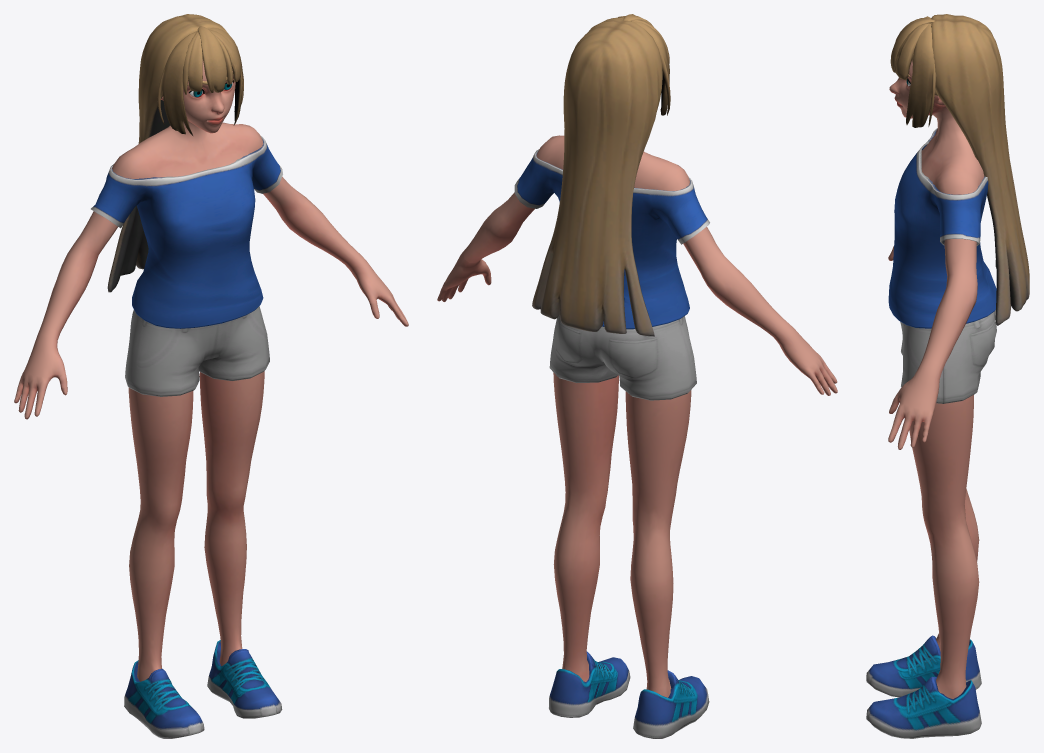
File: Calimero_Mesh.obj
The picture shows the model from 3 angles, left to right: view 1: azimuth 30°, elevation 25°; view 2: azimuth 150°, elevation 25°; view 3: azimuth 270°, elevation 25°; orthographic projection.
Visible parts, largest first — view 1: Calimero_Mesh_0; view 2: Calimero_Mesh_0; view 3: Calimero_Mesh_0.
Part boxes in pixels (x1=…): Calimero_Mesh_0: x1=14, y1=14, x2=408, y2=738; Calimero_Mesh_0: x1=437, y1=14, x2=837, y2=738; Calimero_Mesh_0: x1=866, y1=14, x2=1029, y2=738.
Bounding box in the file's own units: 1.06 × 1.81 × 0.3873.
1 material, 1 textured.
